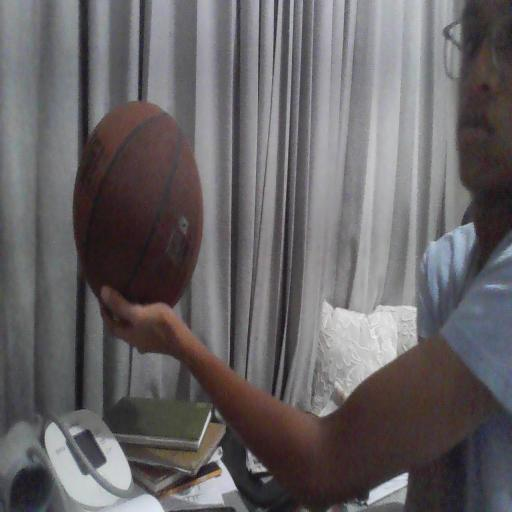basketball: (73, 101, 203, 305)
